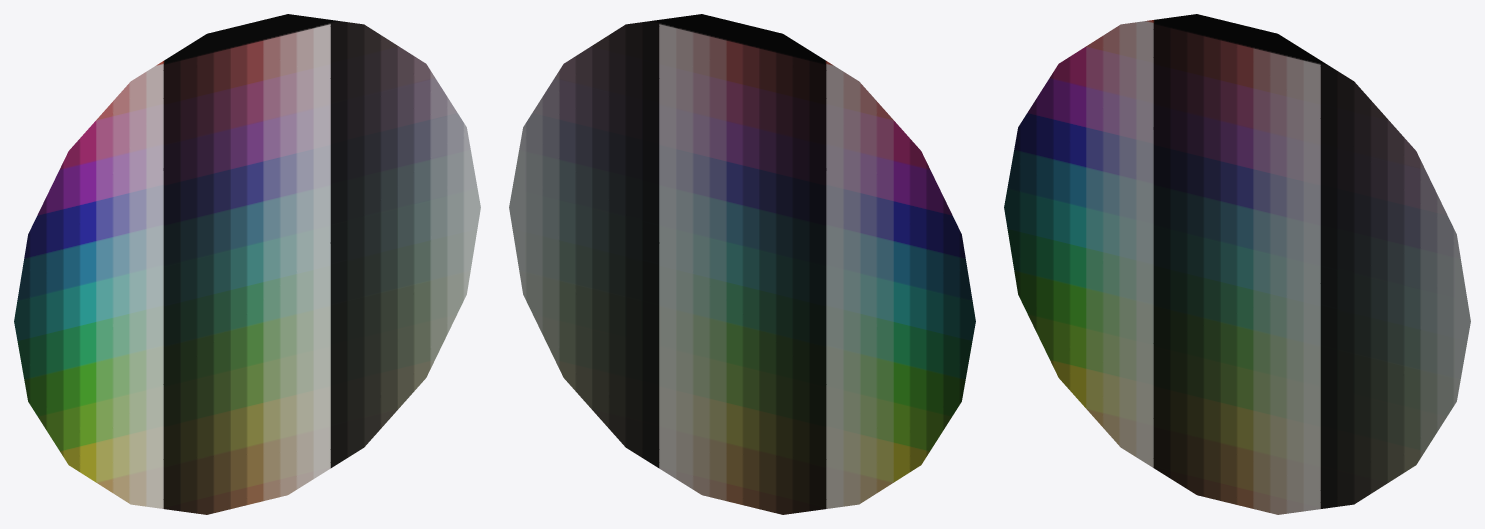
The model's file is Ocean 01.FBX.
3 renders of one model, left to right at view 1: azimuth 30°, elevation 25°; view 2: azimuth 150°, elevation 25°; view 3: azimuth 330°, elevation 25°, orthographic.
Parts seen in each view (by area): view 1: Ocean 01; view 2: Ocean 01; view 3: Ocean 01.
Part boxes in pixels (<box>): Ocean 01: <box>14,14,480,514</box>; Ocean 01: <box>509,14,975,514</box>; Ocean 01: <box>1004,14,1470,514</box>.
Bounding box in the file's own units: 524 × 8.22e-05 × 516.
